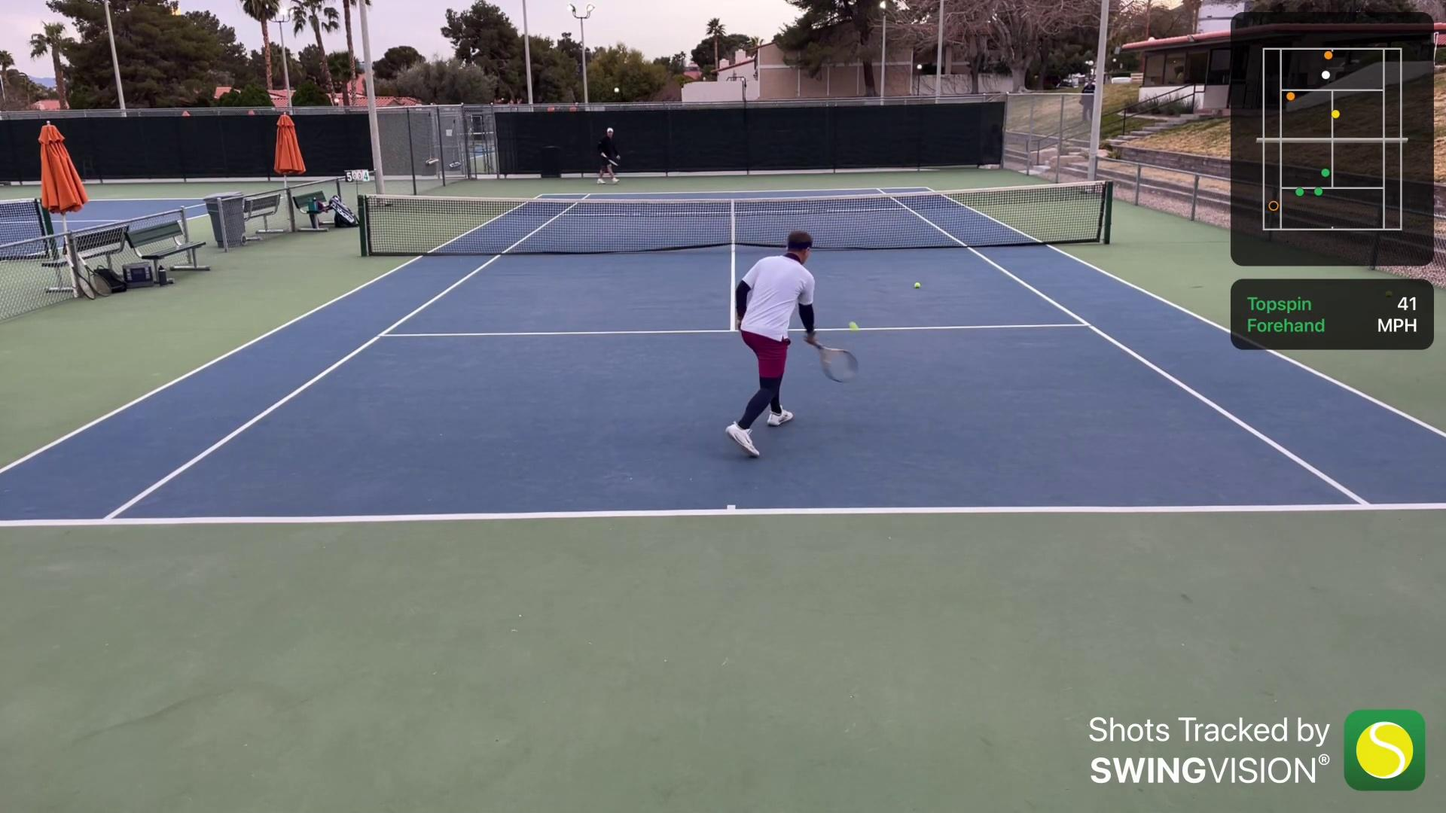ball: (843, 319, 860, 333), (909, 279, 921, 291)
